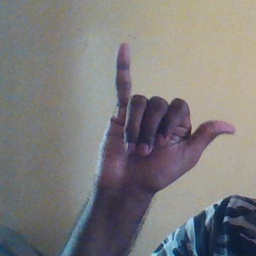J: (94, 43, 235, 189)
